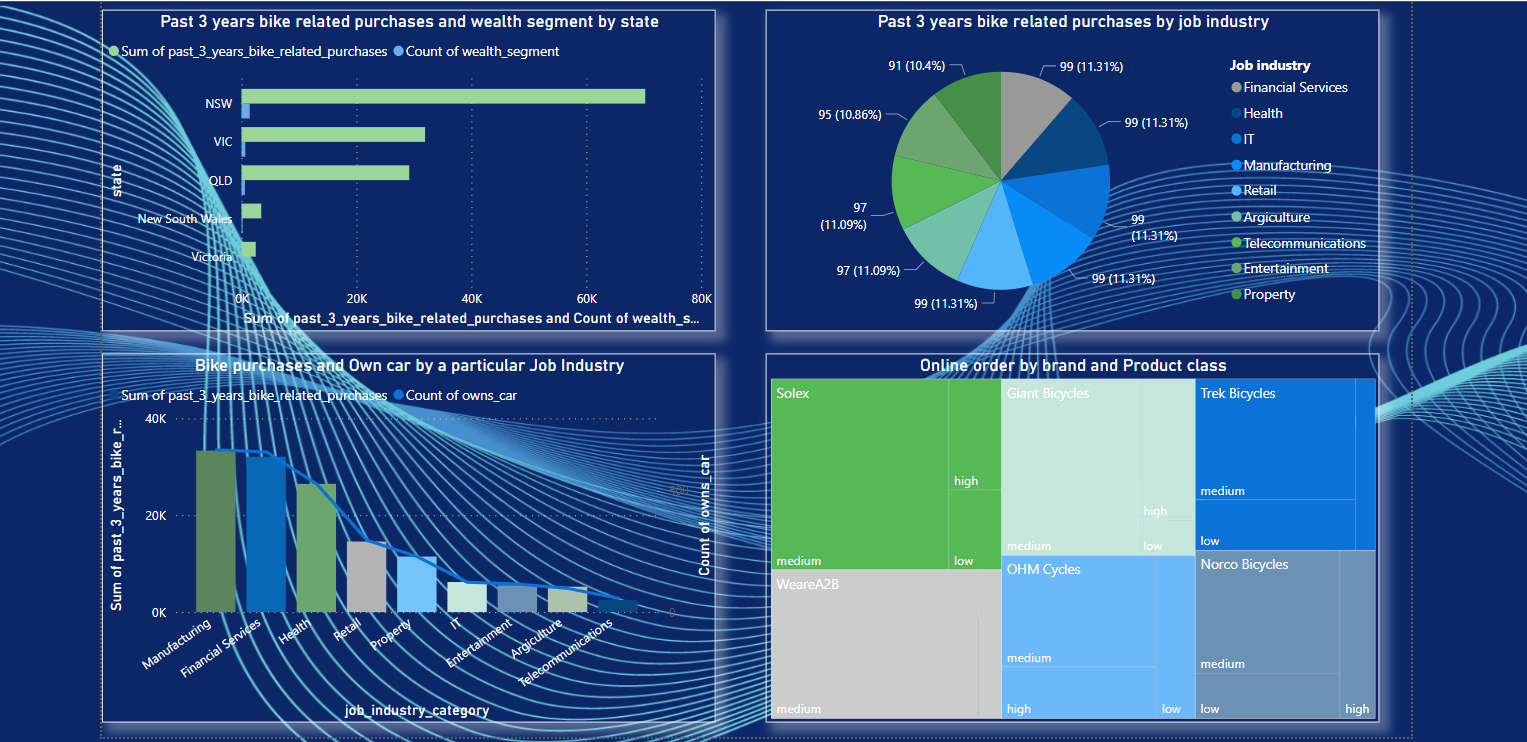

Layout of this report page (visuals, bound fields, positions):
{"tool":"powerbi","page":{"name":"Previous","canvas":[1280,720],"ordinal":1},"visuals":[{"type":"clusteredBarChart","title":"Past 3 years bike related purchases and wealth segment by state","fields":{"Category":["CustomerAddress.state"],"Y":["Sum(CustomerDemographic.past_3_years_bike_related_purchases)","CountNonNull(CustomerDemographic.wealth_segment)"]},"box":[0,8.6,600.2,314.2],"z":0},{"type":"lineStackedColumnComboChart","title":"Bike purchases and Own car by a particular Job Industry","fields":{"Category":["CustomerDemographic.job_industry_category"],"Y":["Sum(CustomerDemographic.past_3_years_bike_related_purchases)"],"Y2":["CountNonNull(CustomerDemographic.owns_car)"]},"box":[0,344.7,600.2,360.6],"z":1000},{"type":"pieChart","title":"Past 3 years bike related purchases by job industry","fields":{"Category":["NewCustomerList.job_industry_category"],"Y":["Max(NewCustomerList.past_3_years_bike_related_purchases)"]},"box":[649.1,8.6,600.2,314.2],"z":2000},{"type":"treemap","title":"Online order by brand and Product class","fields":{"Group":["Transactions.brand"],"Values":["CountNonNull(Transactions.online_order)"],"Details":["Transactions.product_class"]},"box":[649,345,600,361],"z":3000}]}

Visuals, with their boxes in screenshot pixels (x1, y1, x2, y2):
"Past 3 years bike related purchases and wealth segment by state" clusteredBarChart: detection(99, 5, 711, 325)
"Bike purchases and Own car by a particular Job Industry" lineStackedColumnComboChart: detection(99, 347, 711, 714)
"Past 3 years bike related purchases by job industry" pieChart: detection(761, 5, 1372, 325)
"Online order by brand and Product class" treemap: detection(760, 347, 1372, 715)
